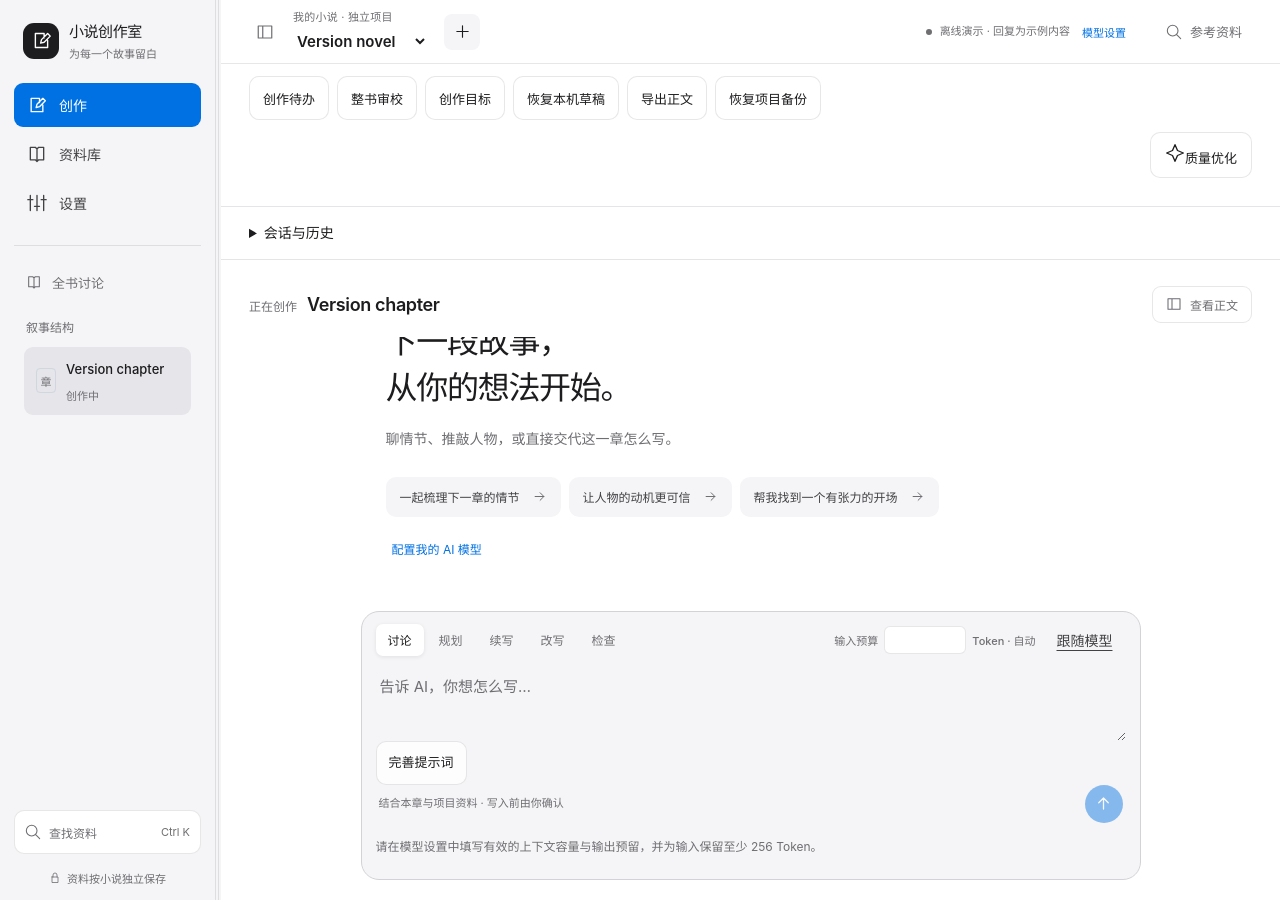
Test: chapter version pagination › retries a failed refresh instead of attempting a nonexistent next page
This screenshot has width=1280, height=900.
(page scrolled)
Expected: the text box named "给 AI 的消息" is shown, [376, 658, 1126, 741]
Click the button "查看正文" at (1202, 304), box [1152, 286, 1252, 323]
(page scrolled)
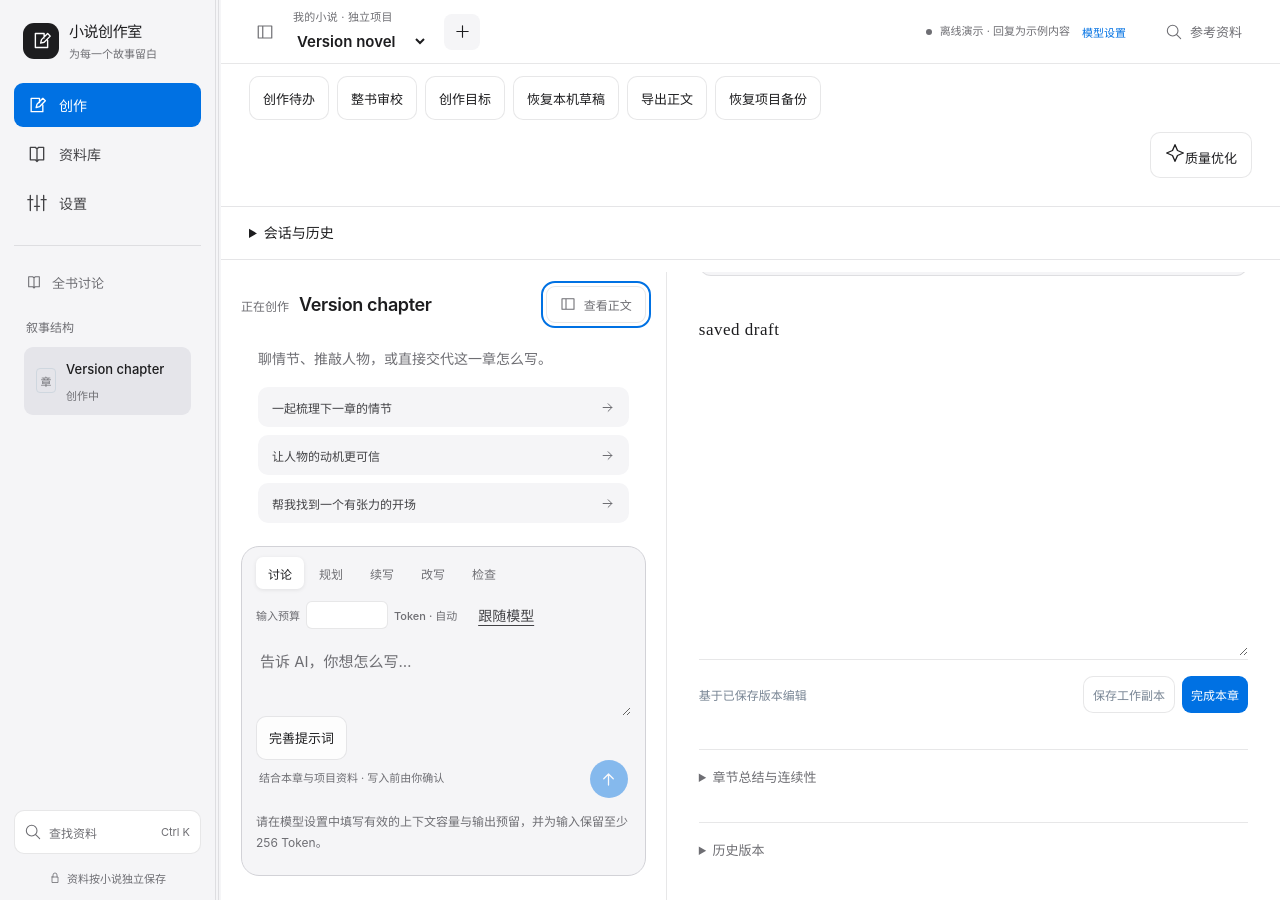
Click the heading "历史版本" at (738, 850), box [712, 842, 764, 858]
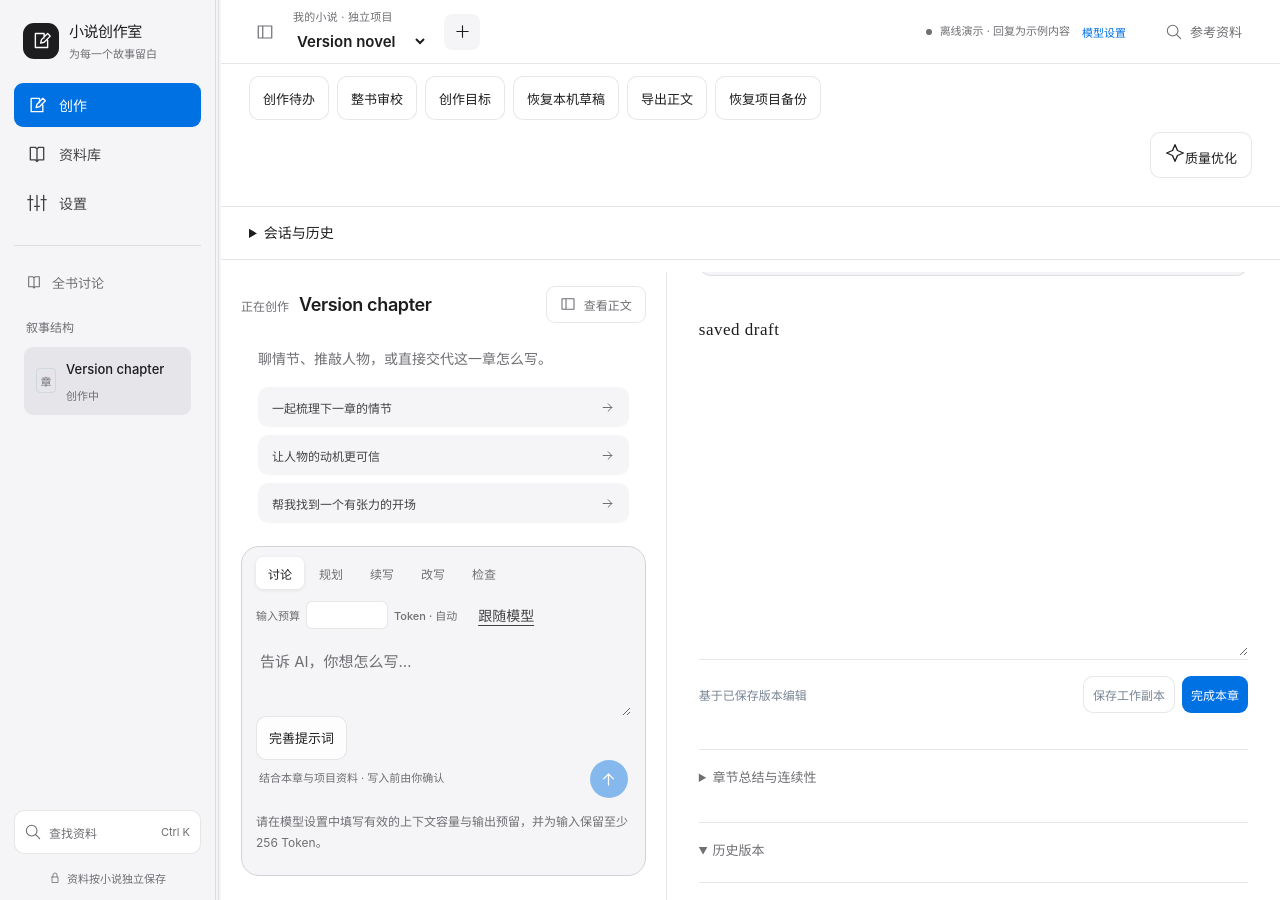
Clear the text box named "章节正文" at (973, 476), box [699, 296, 1248, 656]
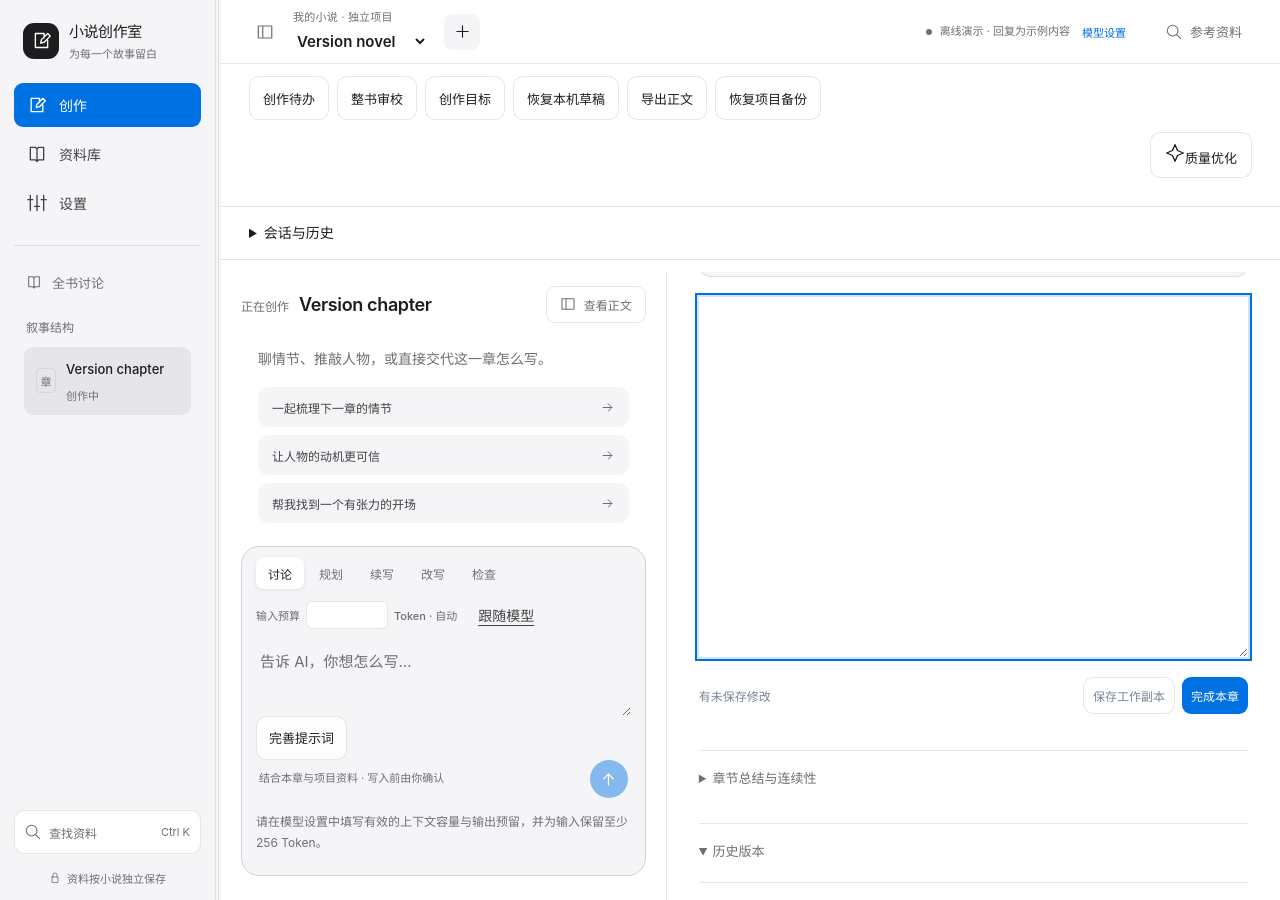
Type "updated draft" into the text box named "章节正文" at (973, 477), box [699, 297, 1248, 657]
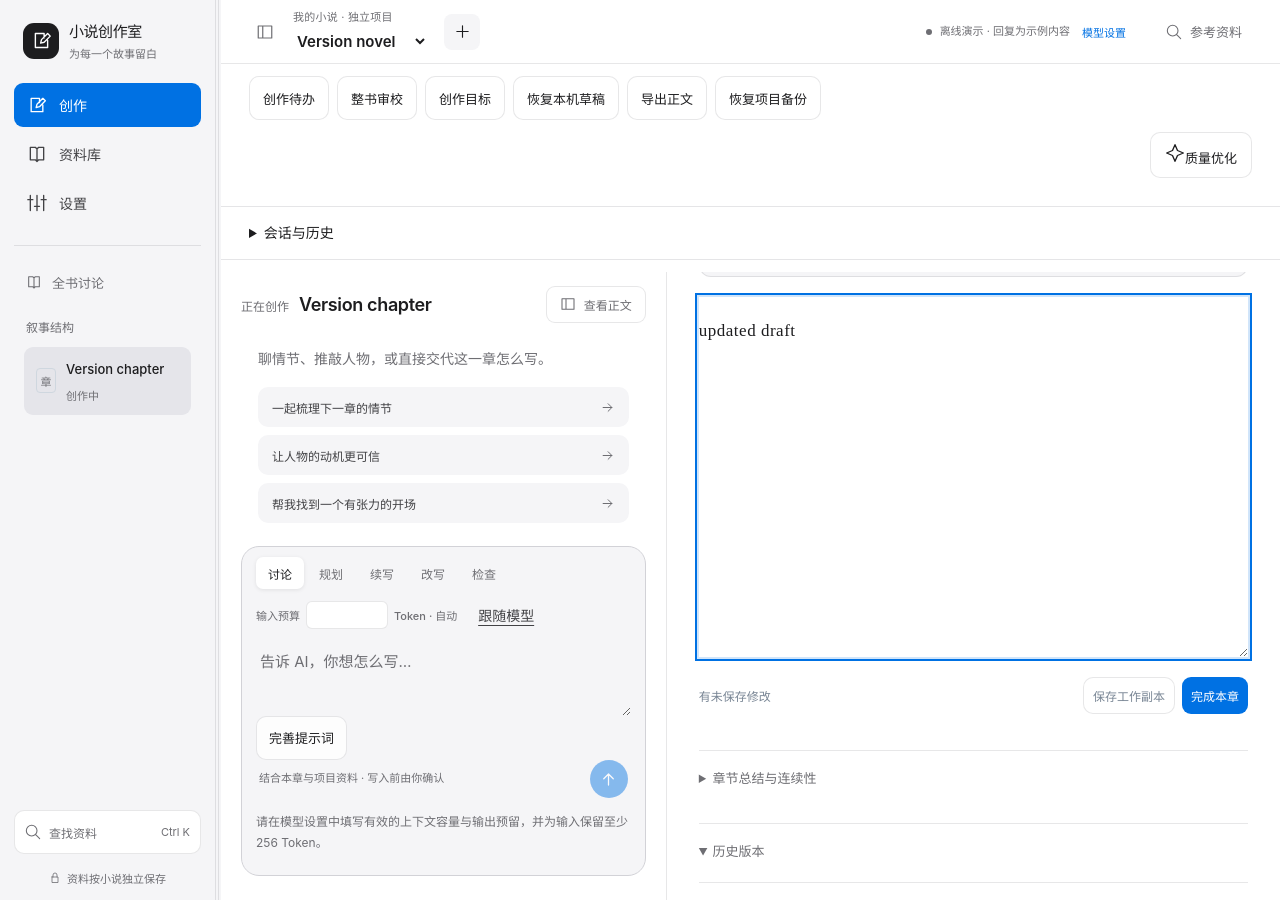
Click the button "保存工作副本" at (1129, 695), box [1083, 677, 1175, 714]
(page scrolled)
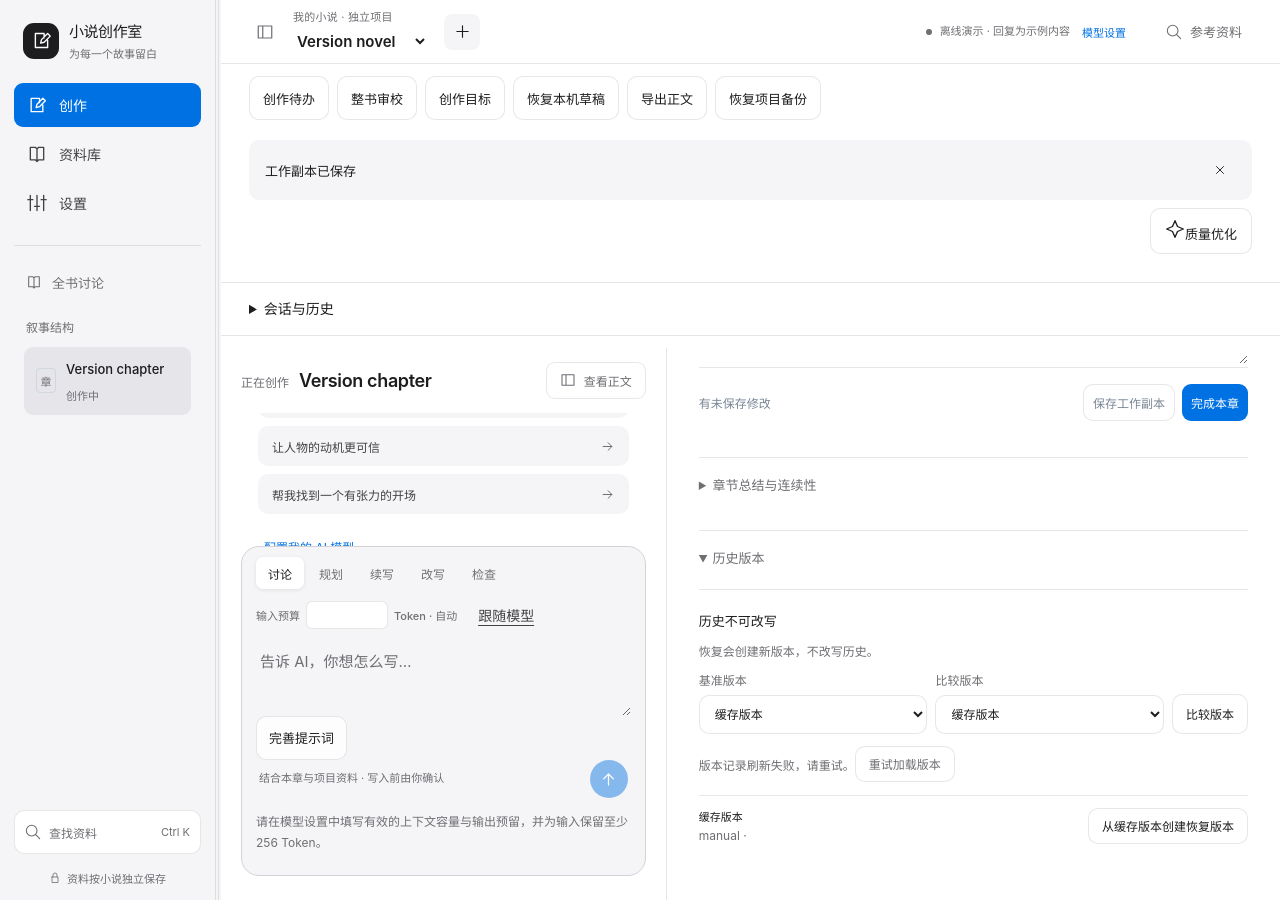
Expected: the message "版本记录刷新失败，请重试。 重试加载版本" is shown, [699, 746, 955, 782]
Expected: the text "缓存版本" is shown, [699, 808, 747, 824]
Click the button "重试加载版本" at (905, 764), box [855, 746, 955, 782]
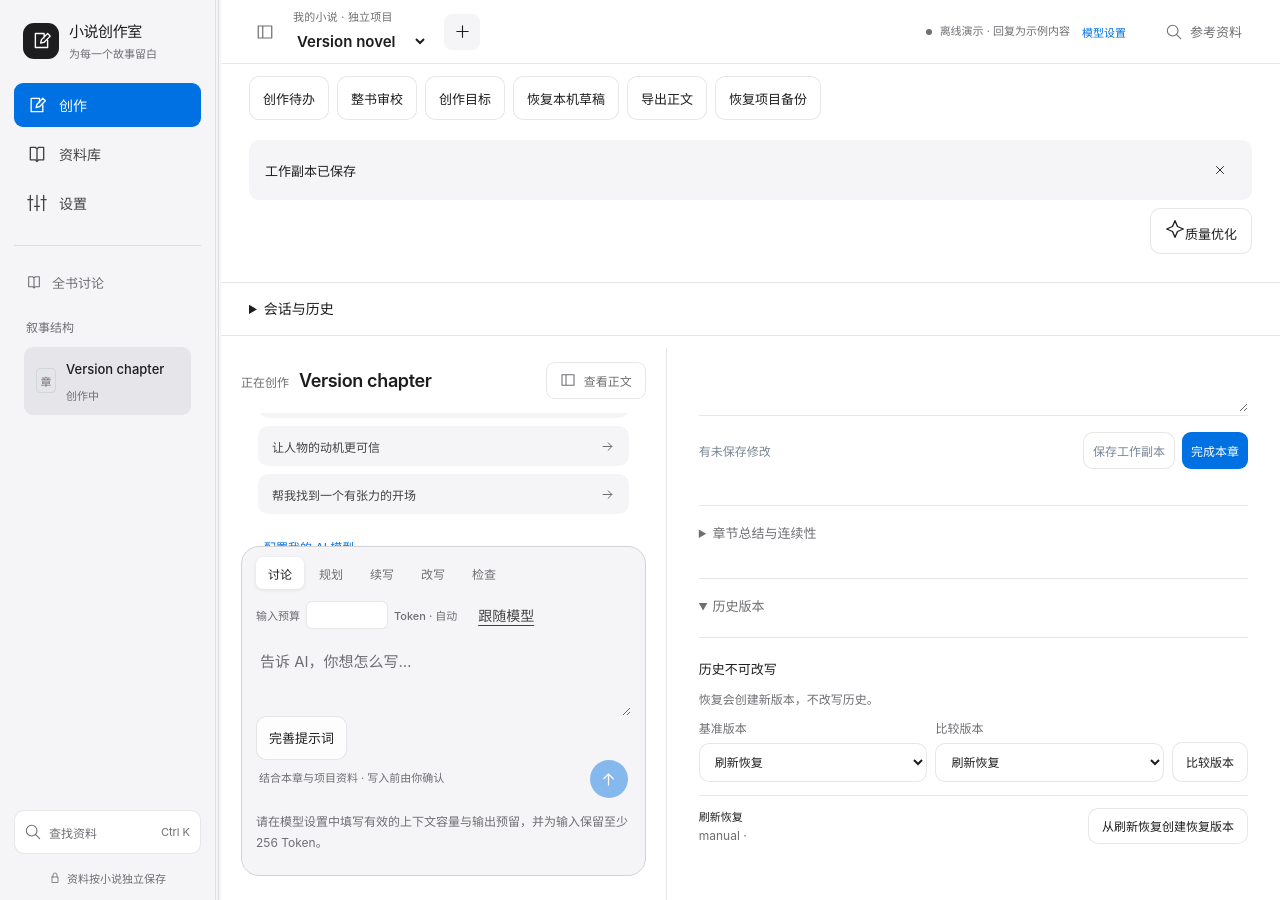
Expected: the text "刷新恢复" is shown, [699, 808, 747, 824]
